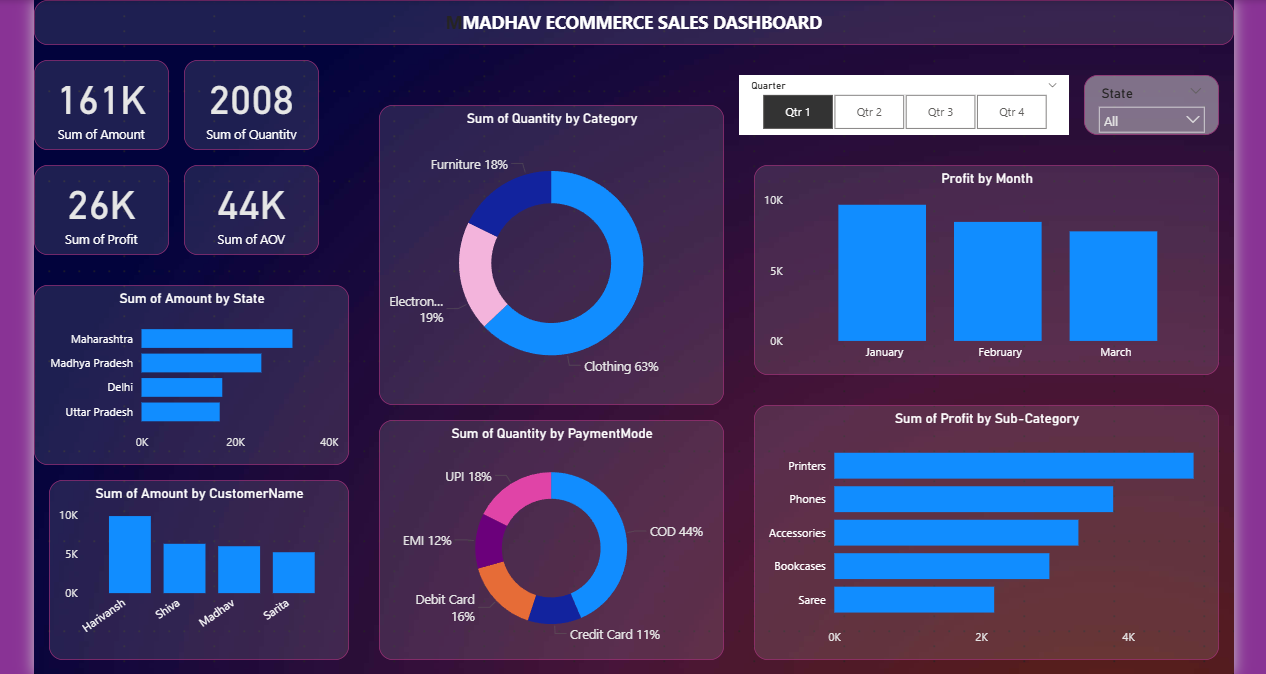

Layout of this report page (visuals, bound fields, positions):
{"tool":"powerbi","page":{"name":"Page 1","canvas":[1280,720],"ordinal":0},"visuals":[{"type":"columnChart","title":"Profit by Month","fields":{"Y":["Details.Profit"],"Category":["Orders.Order Date.Variation.Date Hierarchy.Month"]},"box":[768,176,496,224],"z":0},{"type":"barChart","fields":{"Category":["Details.Sub-Category"],"Y":["Details.Profit"]},"box":[768,432,496,272],"z":1000},{"type":"donutChart","fields":{"Category":["Details.Category"],"Y":["Details.Quantity"]},"box":[368,112,368,320],"z":2000},{"type":"donutChart","fields":{"Y":["Details.Quantity"],"Series":["Details.PaymentMode"]},"box":[368,448,368,256],"z":3000},{"type":"card","fields":{"Values":["Details.Amount"]},"box":[0,64,144,96],"z":4000},{"type":"card","fields":{"Values":["Details.Quantity"]},"box":[160,64,144,96],"z":5000},{"type":"card","fields":{"Values":["Details.Profit"]},"box":[0,176,144,96],"z":6000},{"type":"card","fields":{"Values":["Details.AOV"]},"box":[160,176,144,96],"z":7000},{"type":"barChart","fields":{"Category":["Orders.State"],"Y":["Details.Amount"]},"box":[0,304,336,192],"z":8000},{"type":"columnChart","fields":{"Category":["Orders.CustomerName"],"Y":["Details.Amount"]},"box":[16,512,320,192],"z":9000},{"type":"textbox","box":[0,0,1280,48],"z":10000},{"type":"slicer","fields":{"Values":["Orders.Order Date.Variation.Date Hierarchy.Quarter"]},"box":[752,80,352,64],"z":11000},{"type":"slicer","fields":{"Values":["Orders.State"]},"box":[1120,80,144,64],"z":12000}]}

Visuals, with their boxes on the page's 1280x720 design canvas (x1, y1, x2, y2). These are canvas units, not pixel positions in the 1266x674 screenshot, which may show the page scaled, cropped or inside an application window:
"Profit by Month" columnChart: bbox=(768, 176, 1264, 400)
barChart - Details.Sub-Category x Details.Profit: bbox=(768, 432, 1264, 704)
donutChart - Details.Category x Details.Quantity: bbox=(368, 112, 736, 432)
donutChart - Details.Quantity x Details.PaymentMode: bbox=(368, 448, 736, 704)
card - Details.Amount: bbox=(0, 64, 144, 160)
card - Details.Quantity: bbox=(160, 64, 304, 160)
card - Details.Profit: bbox=(0, 176, 144, 272)
card - Details.AOV: bbox=(160, 176, 304, 272)
barChart - Orders.State x Details.Amount: bbox=(0, 304, 336, 496)
columnChart - Orders.CustomerName x Details.Amount: bbox=(16, 512, 336, 704)
textbox: bbox=(0, 0, 1280, 48)
slicer - Orders.Order Date.Variation.Date Hierarchy.Quarter: bbox=(752, 80, 1104, 144)
slicer - Orders.State: bbox=(1120, 80, 1264, 144)
